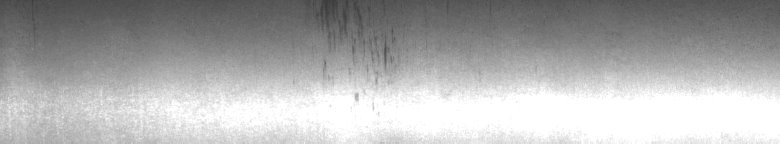ka: (315, 4, 449, 102)
